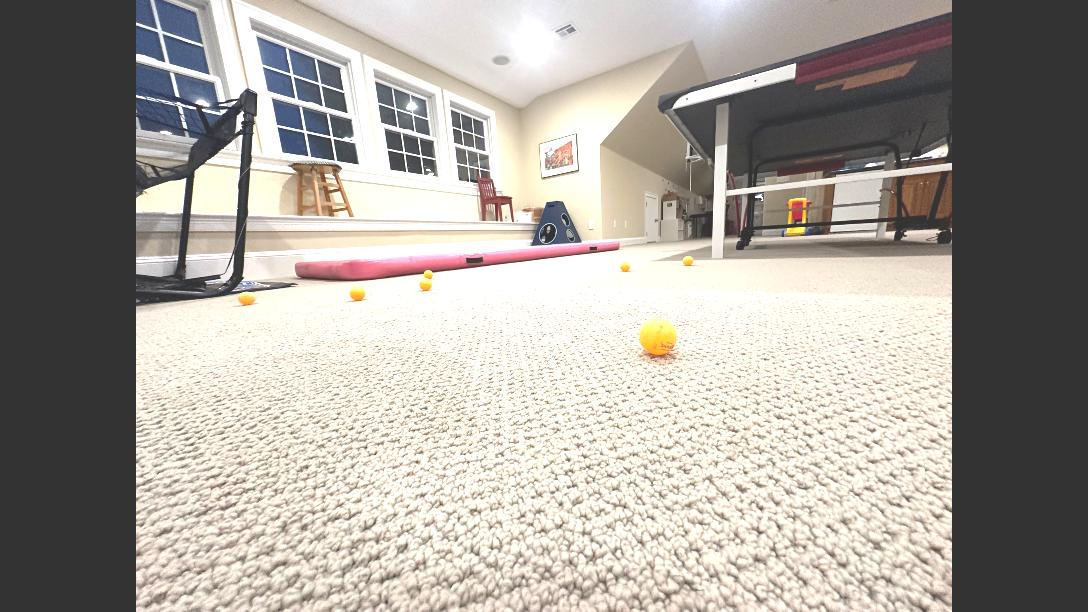Table-Tennis-Ball: (640, 318, 676, 354), (238, 292, 256, 304), (350, 286, 364, 300), (420, 278, 432, 290), (683, 256, 693, 266), (620, 262, 630, 270), (424, 270, 432, 278)
